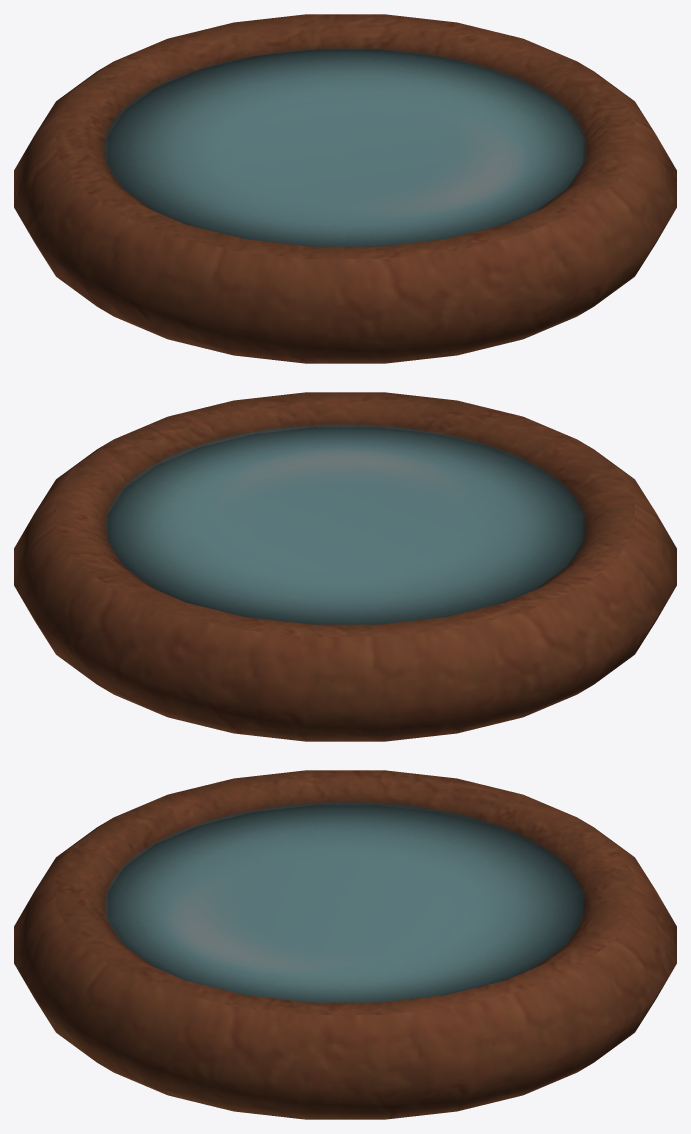
File: observatory-lens.glb
The picture shows the model from 3 angles, top to bottom: view 1: azimuth 30°, elevation 25°; view 2: azimuth 150°, elevation 25°; view 3: azimuth 270°, elevation 25°; orthographic projection.
Visible parts, largest first — view 1: observatory-lens; view 2: observatory-lens; view 3: observatory-lens.
Part boxes in pixels (<box>): observatory-lens: <box>14,14,676,363</box>; observatory-lens: <box>14,392,676,741</box>; observatory-lens: <box>14,770,676,1119</box>.
Size of the model in its own units: 10.74 by 1.87 by 10.74.
1 material, 1 textured.
